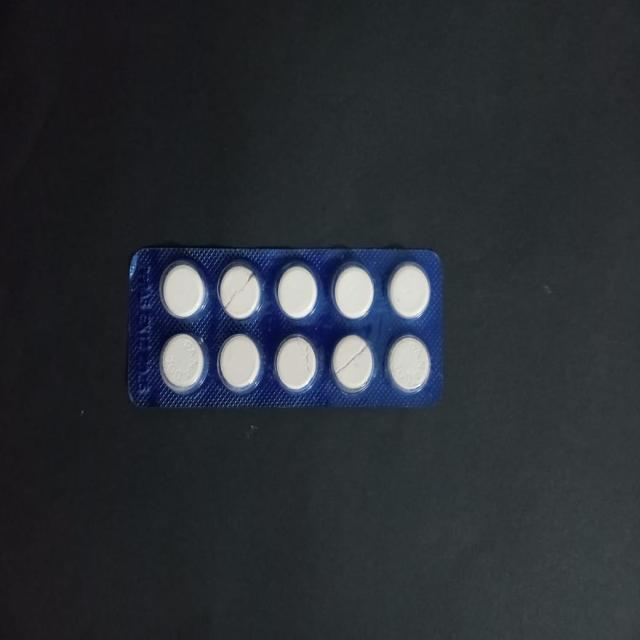defect: (216, 259, 265, 321), (330, 334, 378, 395), (273, 334, 320, 394)
